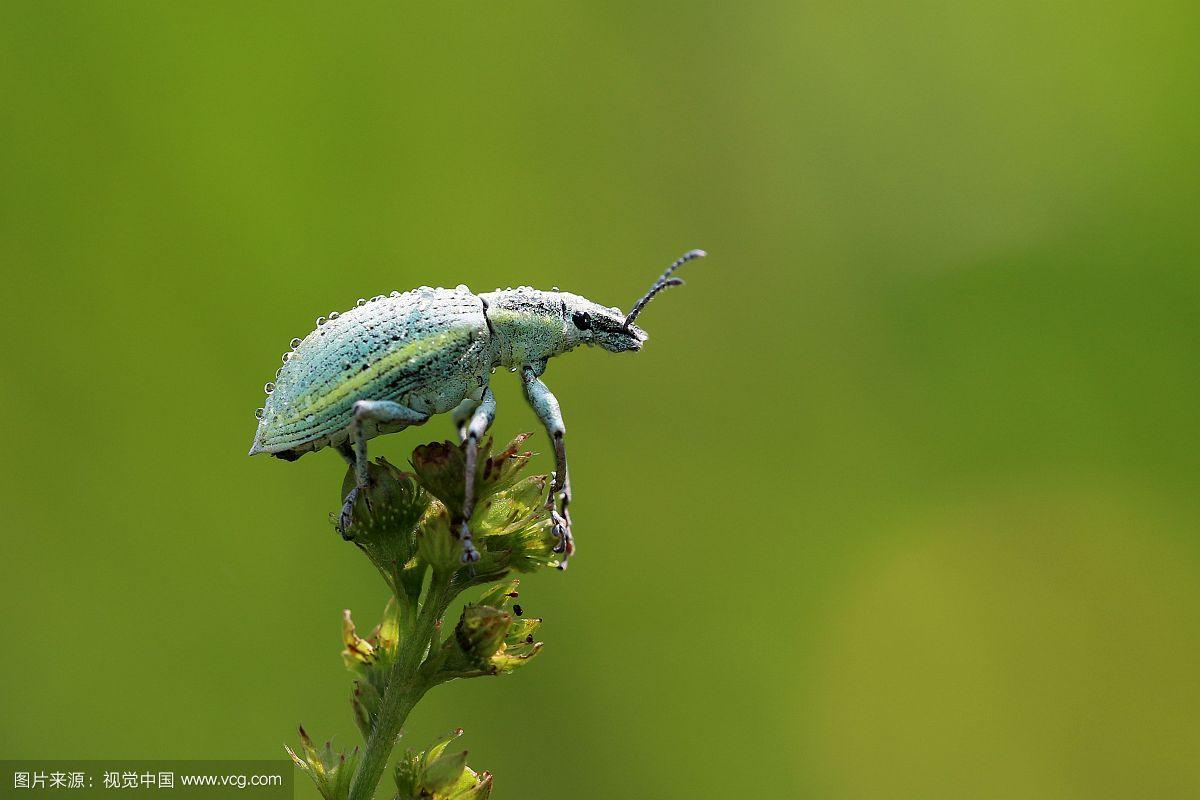Curculionidae: (245, 249, 707, 566)
